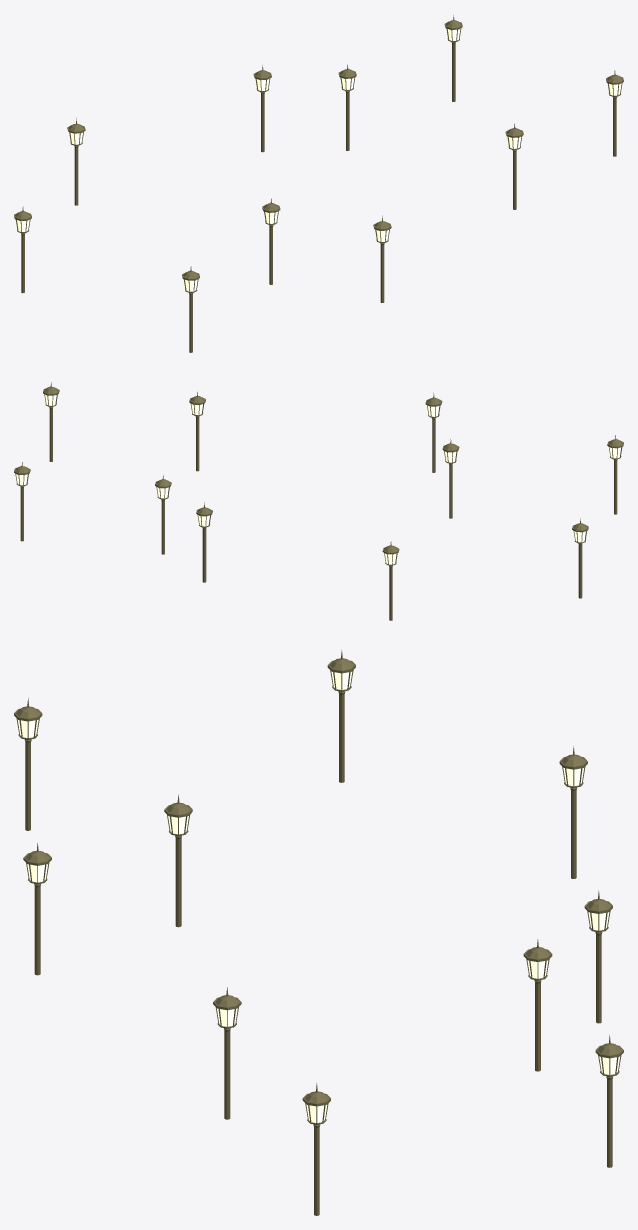
The model's file is rock_kicking_purgatory_ground_1_collision.glb.
The picture shows the model from 3 angles, top to bottom: view 1: azimuth 30°, elevation 25°; view 2: azimuth 150°, elevation 25°; view 3: azimuth 270°, elevation 25°; orthographic projection. The views are drawn at different scales.
Visible parts, largest first — view 1: Lamp Post-colonly; view 2: Lamp Post-colonly; view 3: Lamp Post-colonly.
Part boxes in pixels (<box>): Lamp Post-colonly: <box>14,15,623,352</box>; Lamp Post-colonly: <box>14,382,623,620</box>; Lamp Post-colonly: <box>14,650,623,1215</box>.
Size of the model in its own units: 470 by 65.25 by 272.
